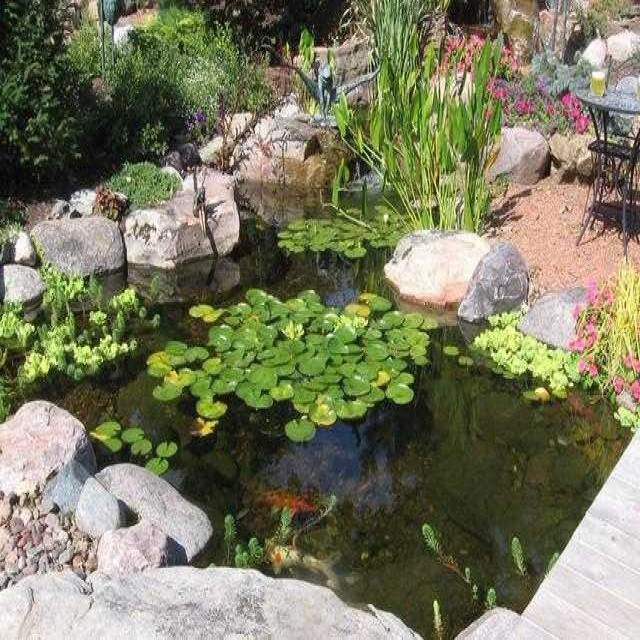Ponds: (1, 71, 640, 640)
